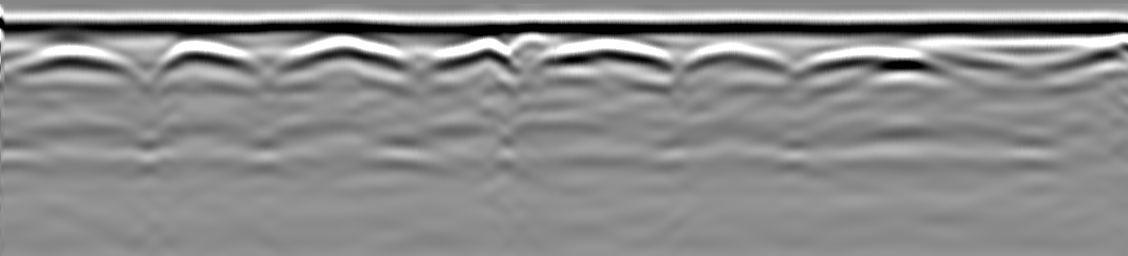steel: (2, 43, 150, 87), (273, 37, 420, 79), (794, 41, 942, 76), (536, 41, 676, 76), (151, 39, 268, 79), (675, 41, 794, 79), (429, 35, 522, 82), (1051, 45, 1127, 79)
